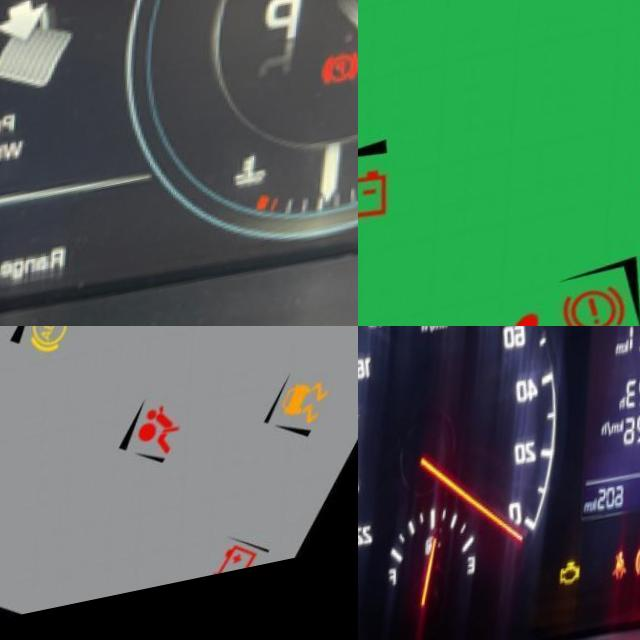Seat Belt: (613, 558, 636, 600)
